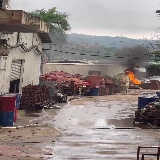fire: (126, 71, 142, 84)
